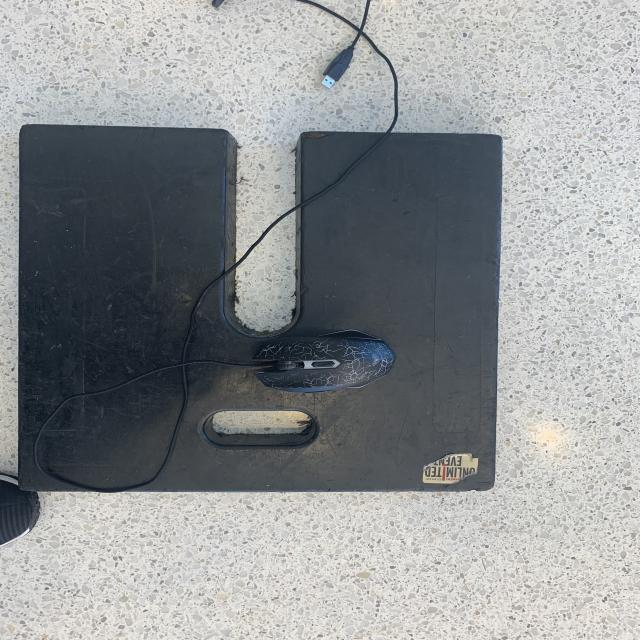Mouse: (240, 324, 399, 396)
